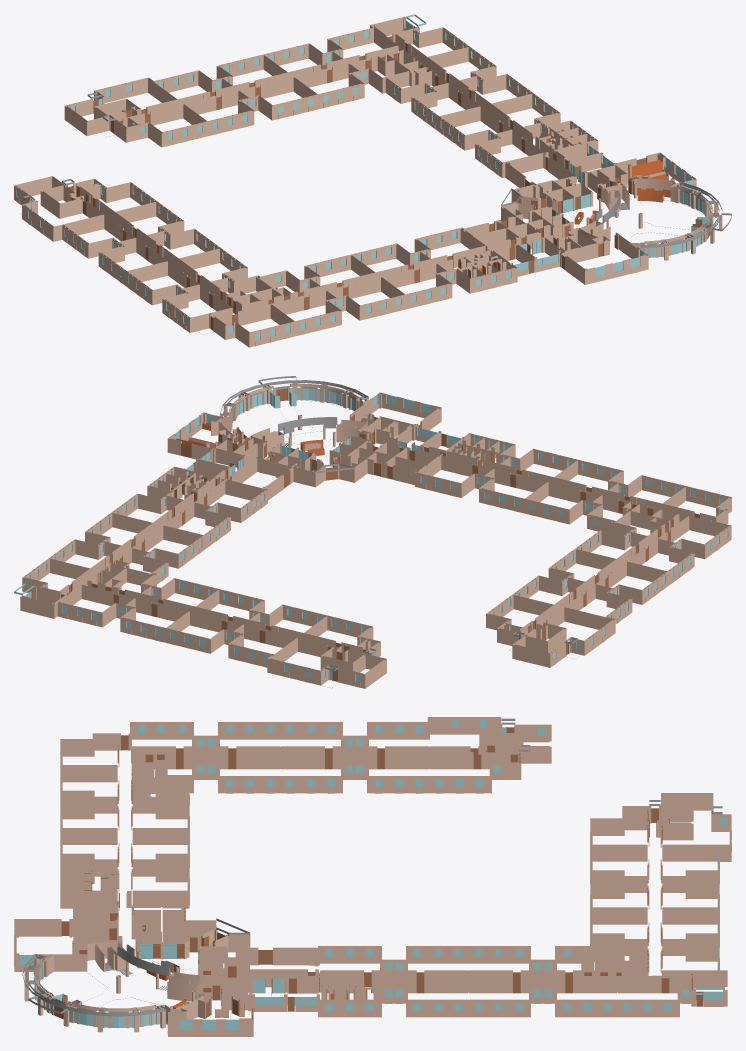
The model's file is ResHall.obj.
3 renders of one model, top to bottom at view 1: azimuth 30°, elevation 25°; view 2: azimuth 150°, elevation 25°; view 3: azimuth 270°, elevation 25°, orthographic. The views are drawn at different scales.
Parts seen in each view (by area): view 1: polySurface6705; view 2: polySurface6705; view 3: polySurface6705.
Part boxes in pixels (x1=…): polySurface6705: x1=14, y1=14, x2=731, y2=347; polySurface6705: x1=14, y1=376, x2=731, y2=688; polySurface6705: x1=14, y1=717, x2=731, y2=1036.
Size of the model in its own units: 3745 by 144 by 3745.
